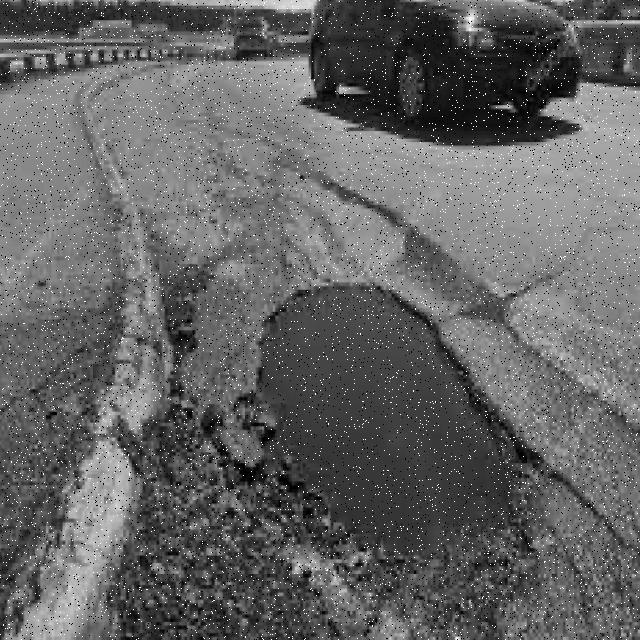pothole: (256, 282, 532, 548)
